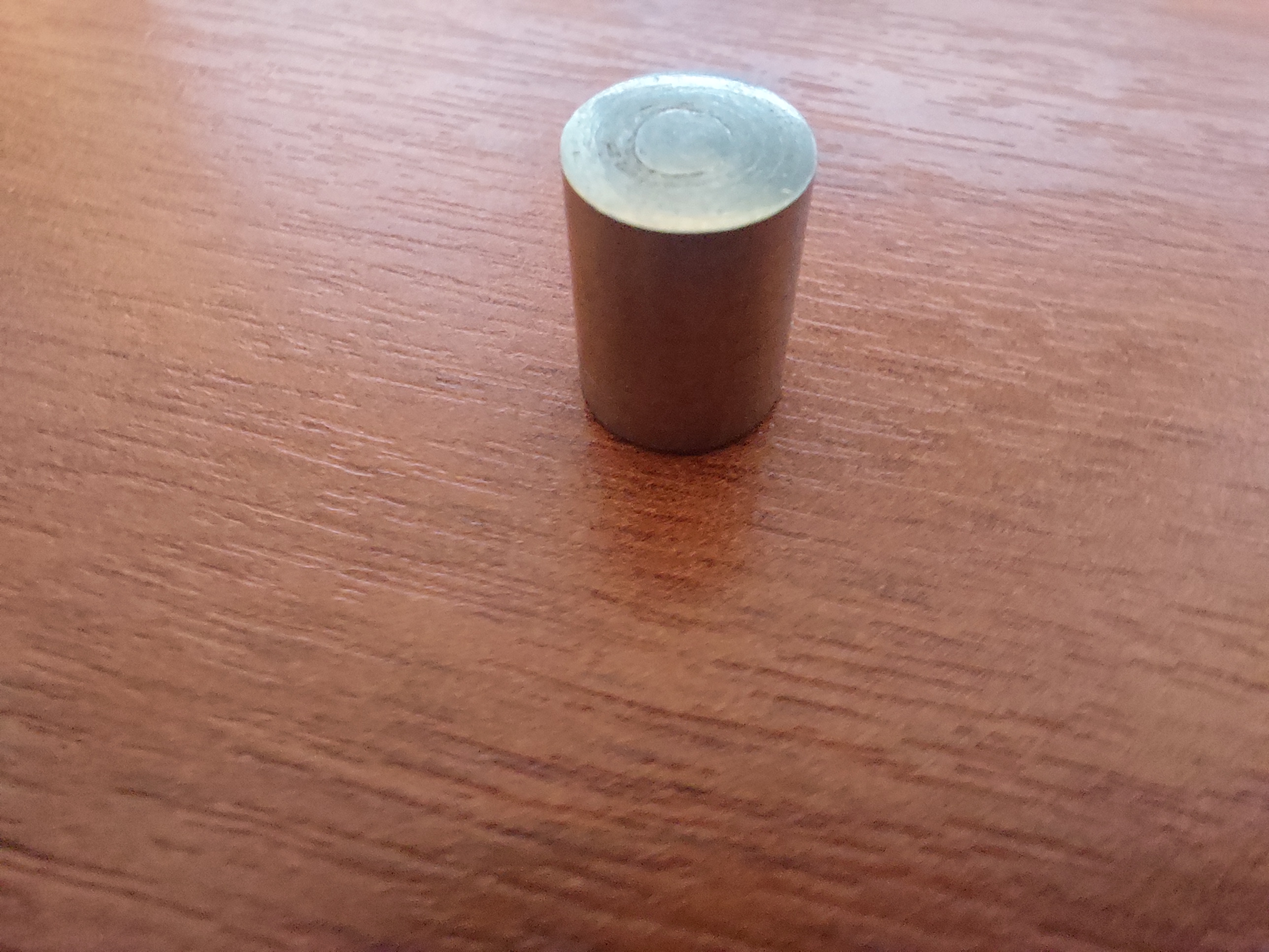tablet: (541, 69, 864, 496)
